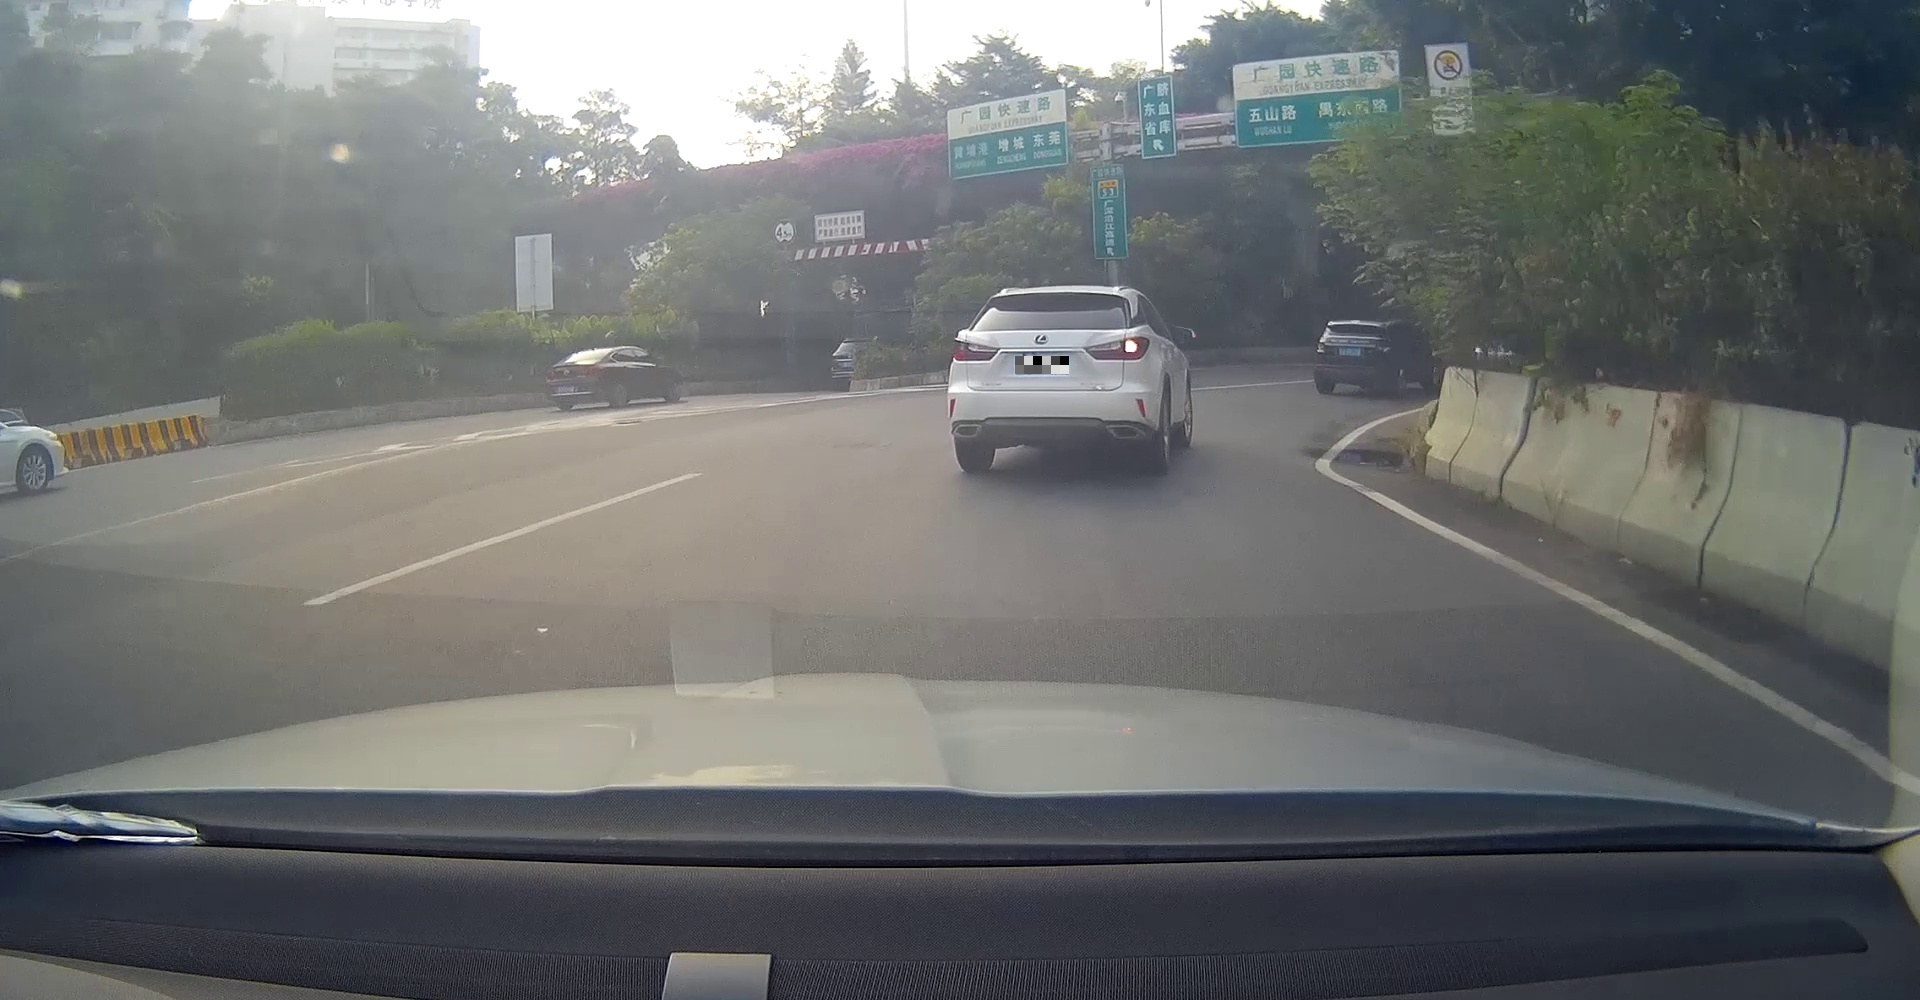L_light: (952, 338, 1002, 360), (1316, 341, 1328, 354), (546, 369, 556, 377)
R_light: (1082, 336, 1150, 360), (582, 365, 597, 376), (1374, 344, 1388, 354)
T_light: (1048, 288, 1070, 296), (1349, 322, 1363, 327), (590, 348, 599, 352)
day-no: (1314, 319, 1394, 395), (546, 346, 615, 410)
day-right: (949, 286, 1152, 475)
plate_1: (1015, 357, 1069, 374)
